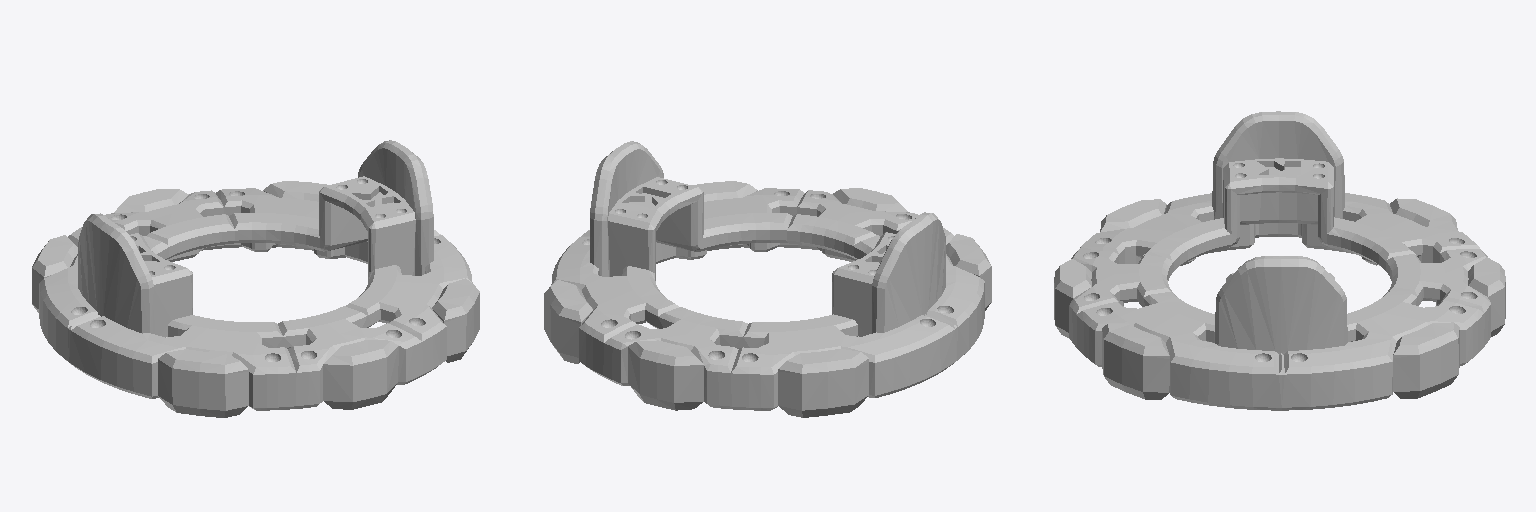
File: knukledisk.obj
3 views of the same model, side by side, from view 1: azimuth 30°, elevation 25°; view 2: azimuth 150°, elevation 25°; view 3: azimuth 270°, elevation 25° (orthographic).
Parts seen in each view (by area): view 1: Mesh_0019out.001; view 2: Mesh_0019out.001; view 3: Mesh_0019out.001.
Boxes of the visible parts, box(x1,y1,x2,y2) form: Mesh_0019out.001: box(32, 140, 479, 417); Mesh_0019out.001: box(544, 141, 991, 417); Mesh_0019out.001: box(1054, 111, 1505, 410).
Bounding box in the file's own units: 0.3839 × 0.138 × 0.3997.